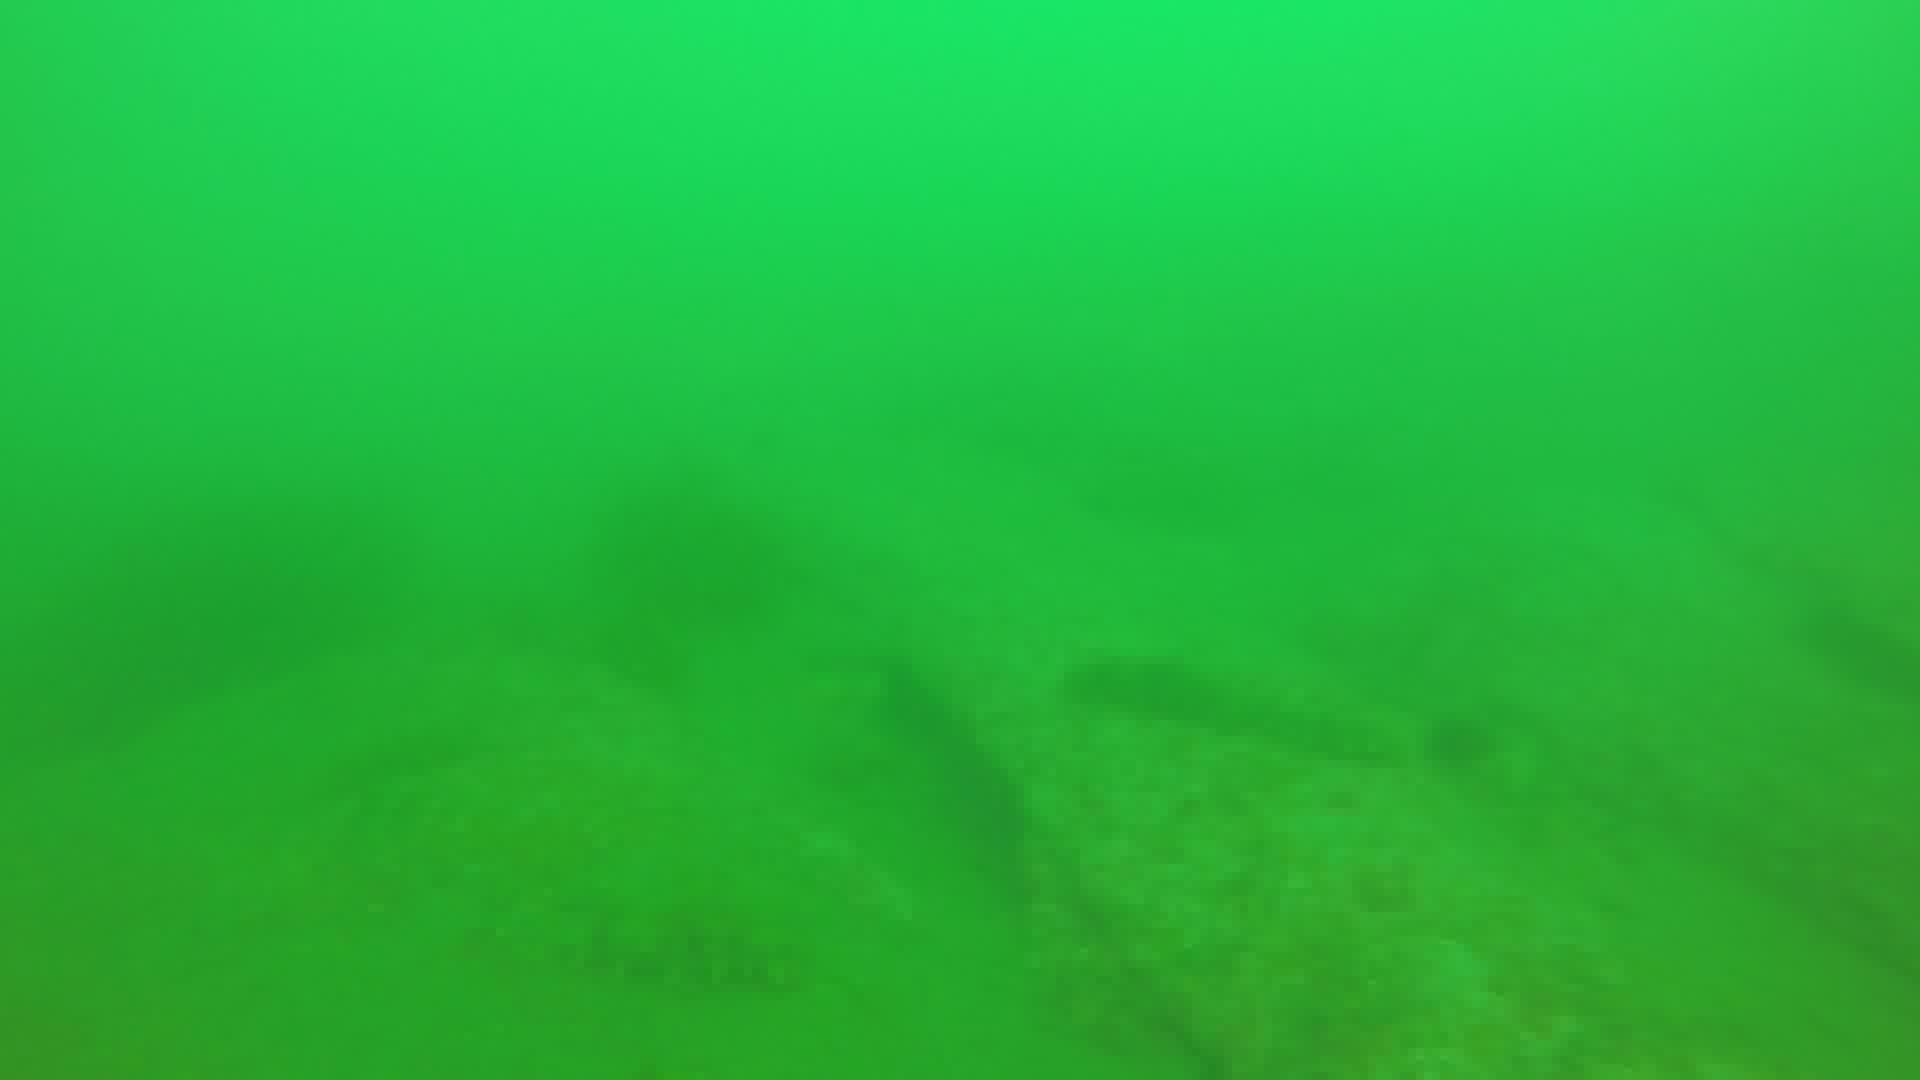holothurian: (1080, 647, 1389, 764), (576, 899, 831, 1000)
